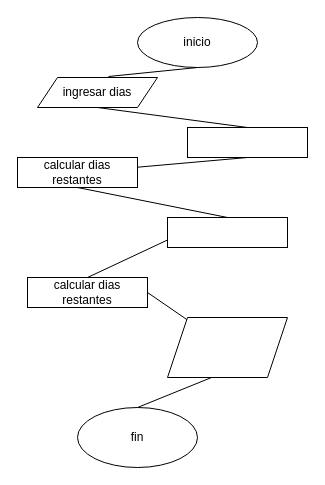
Image size: 325x485. Some labels were removed from this diagram. The centre of each missing label's shape, as x and y in pixels:
calcular anios: (x=247, y=142)
calcular semanas: (x=227, y=232)
mostrar resultado: (x=227, y=347)
